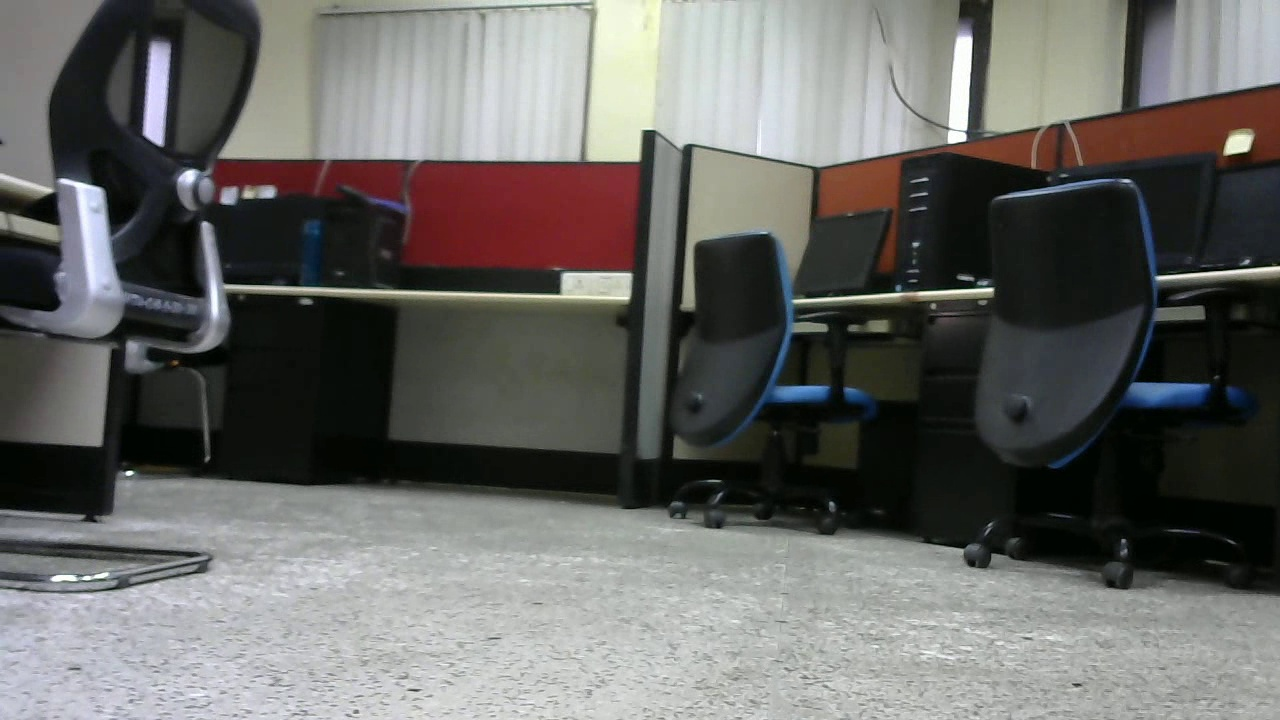chair: (978, 174, 1265, 603), (660, 228, 879, 534)
